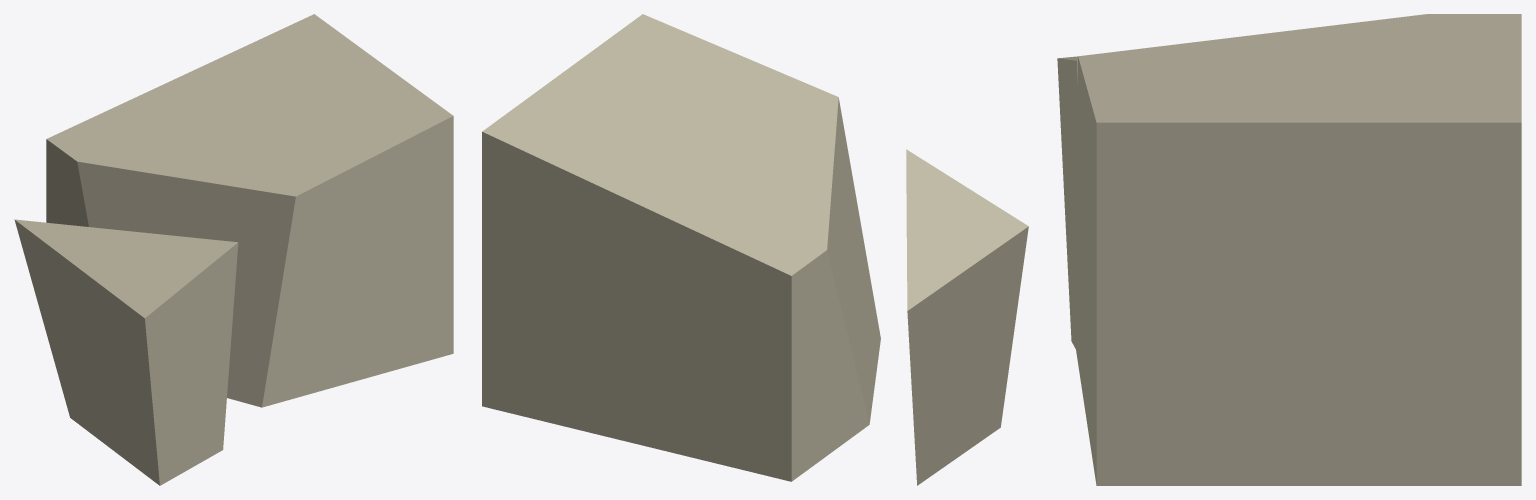
File: Rock_Square_crk_s_02.fbx
3 renders of one model, left to right at view 1: azimuth 30°, elevation 25°; view 2: azimuth 150°, elevation 25°; view 3: azimuth 270°, elevation 25°, orthographic. The views are drawn at different scales.
Visible parts, largest first — view 1: Rock_Square_crk_s_02; view 2: Rock_Square_crk_s_02; view 3: Rock_Square_crk_s_02.
Part boxes in pixels (box(x1,y1,x2,y2)): Rock_Square_crk_s_02: box(14, 14, 453, 485); Rock_Square_crk_s_02: box(482, 14, 1028, 485); Rock_Square_crk_s_02: box(1057, 14, 1521, 485).
Bounding box in the file's own units: 50.15 × 41.67 × 39.52.
